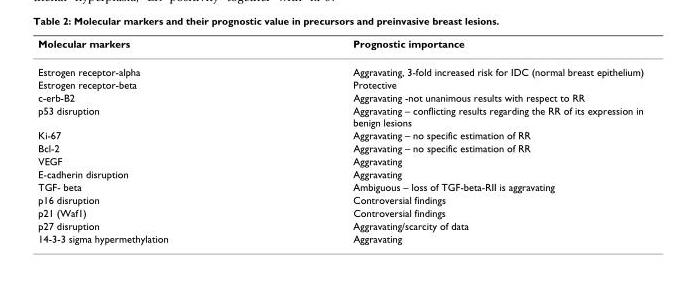table: (37, 37, 643, 244)
table column: (259, 37, 643, 244), (37, 37, 259, 244)
table column header: (37, 37, 643, 57)
table row: (37, 103, 643, 128), (37, 37, 643, 57), (37, 57, 643, 77), (37, 77, 643, 90), (37, 90, 643, 103), (37, 128, 643, 141), (37, 141, 643, 154), (37, 154, 643, 167), (37, 167, 643, 180), (37, 180, 643, 193), (37, 205, 643, 218), (37, 218, 643, 231), (37, 231, 643, 244), (37, 193, 643, 205)
